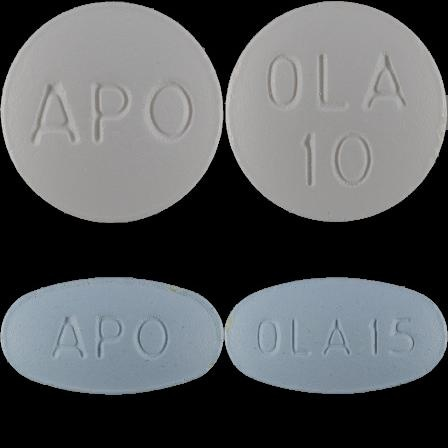60505-3113: (0, 0, 224, 224)
